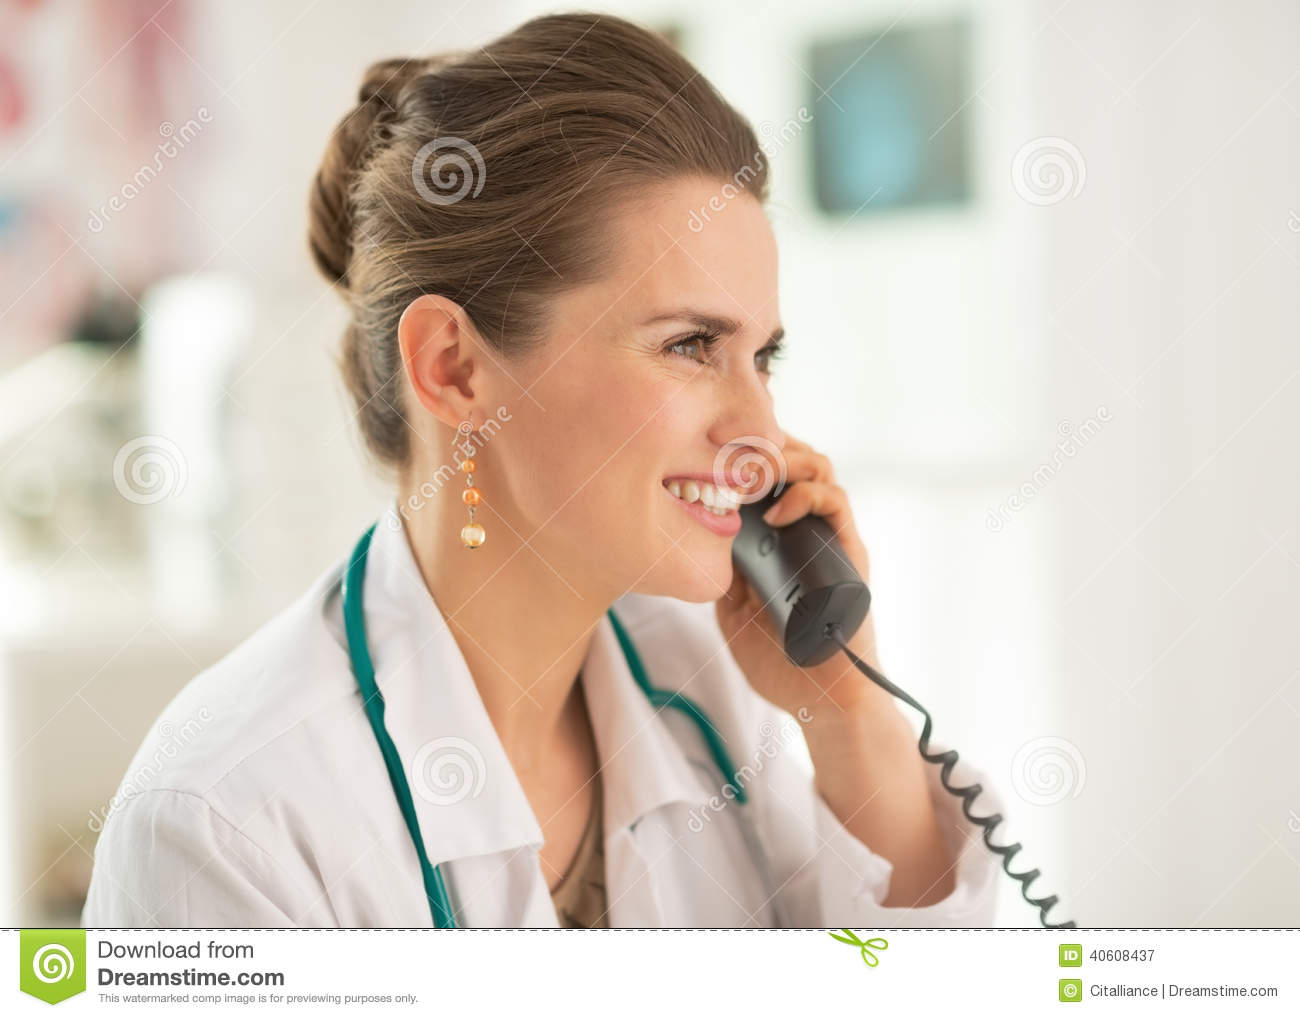phone: (722, 420, 871, 675)
talk: (607, 273, 877, 760)
